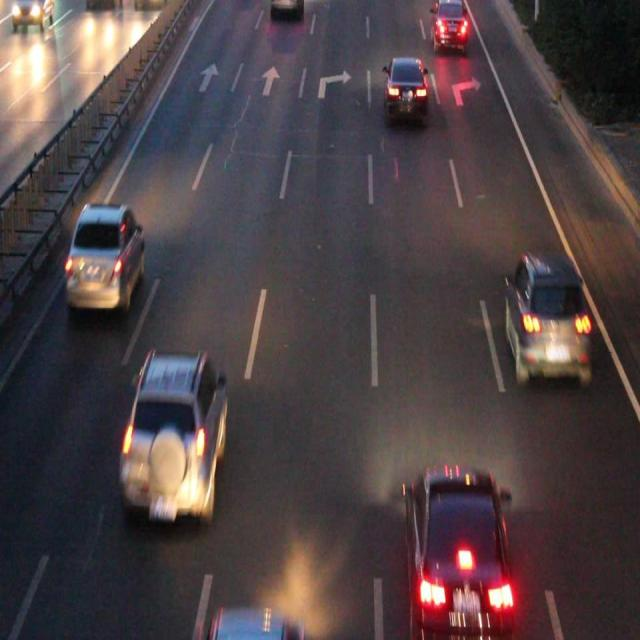car: (405, 468, 520, 640), (124, 355, 227, 503), (505, 252, 587, 382), (70, 200, 144, 310), (210, 609, 300, 640), (383, 58, 428, 114), (430, 2, 466, 48), (272, 1, 302, 18)
